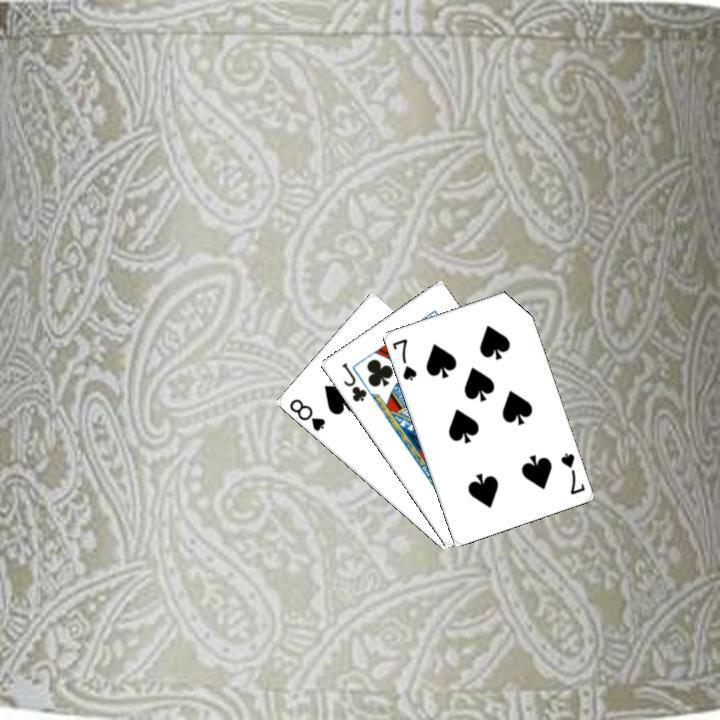7: (387, 334, 418, 382), (556, 448, 587, 496)
8: (284, 394, 327, 434)
J: (337, 358, 369, 404)
